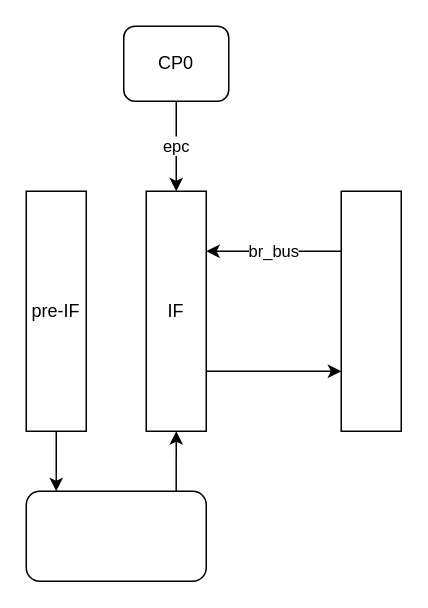
This 428x608 diagram has some shape labels left out. Each missing label, with the centre of its shape:
"ID" goes at point (370, 310).
"inst_sram" goes at point (115, 535).
